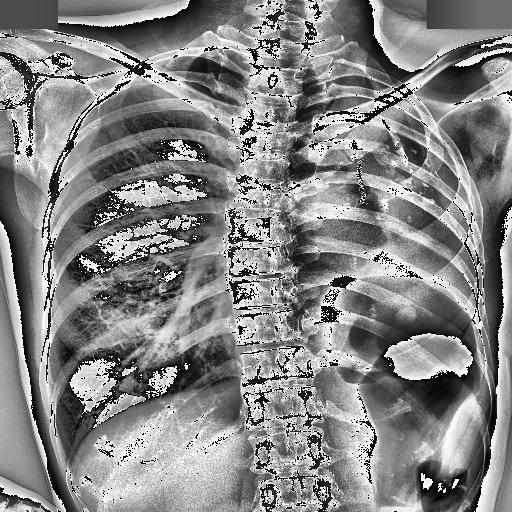1- Atelectasis: (286, 63, 477, 361), (284, 63, 487, 338), (295, 77, 477, 338)
10- Pleural effusion: (286, 63, 477, 361)
11- Pleural thickening: (352, 115, 434, 205), (375, 118, 444, 210)
2- Calcification: (352, 115, 434, 205), (375, 118, 444, 210)
7- Lung Opacity: (286, 63, 477, 361)
9- Other lesion: (327, 270, 471, 492)
